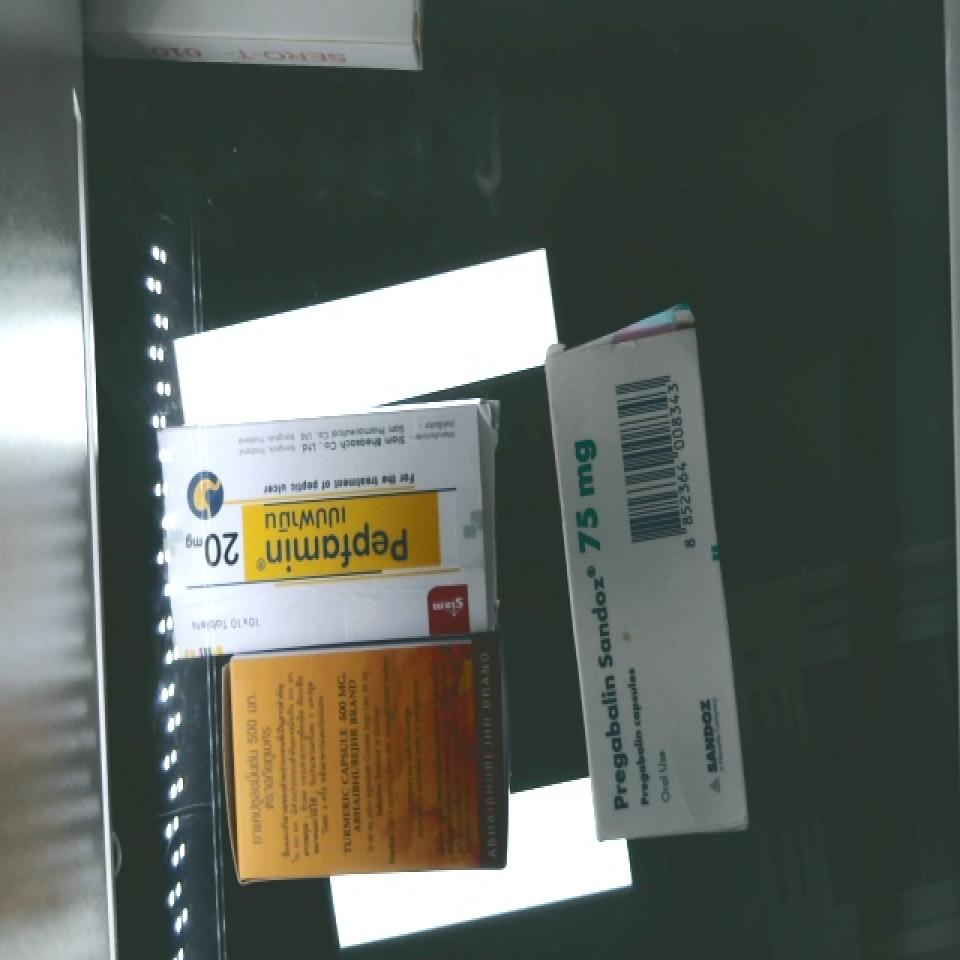medicine_box: (536, 316, 753, 844), (152, 398, 514, 659), (226, 639, 509, 876)
medicine_label_obb: (554, 423, 635, 837), (173, 486, 450, 587)
